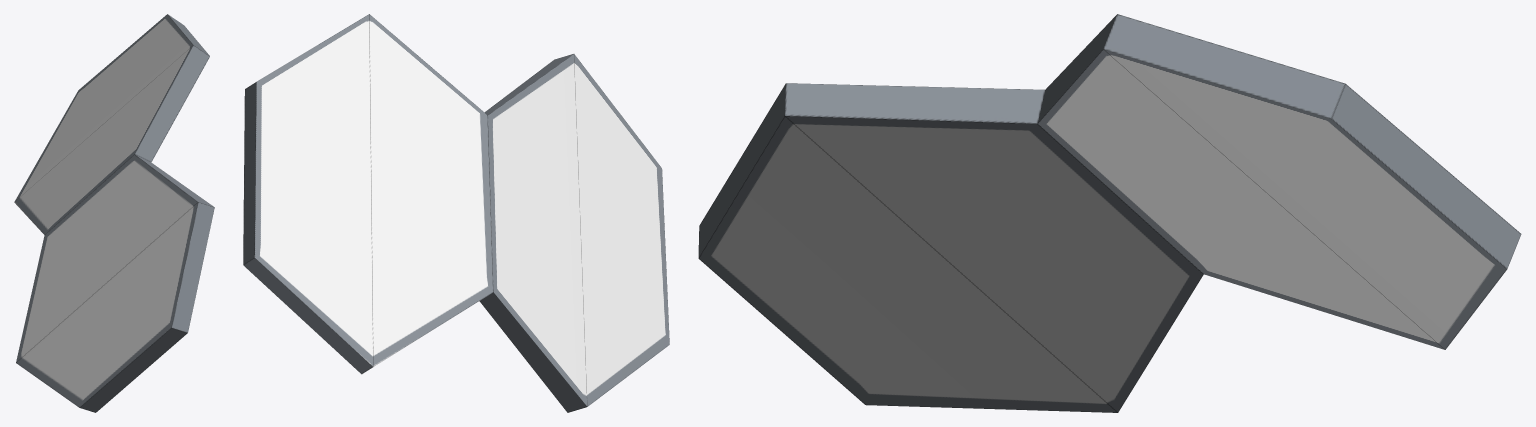
The model's file is OUTDOOR.fbx.
The picture shows the model from 3 angles, left to right: view 1: azimuth 30°, elevation 25°; view 2: azimuth 150°, elevation 25°; view 3: azimuth 270°, elevation 25°; orthographic projection. The views are drawn at different scales.
Visible parts, largest first — view 1: DOME6; view 2: DOME6; view 3: DOME6.
Part boxes in pixels (x1=…): DOME6: x1=14, y1=14, x2=214, y2=412; DOME6: x1=243, y1=14, x2=669, y2=412; DOME6: x1=698, y1=14, x2=1521, y2=412.
Size of the model in its own units: 0.5955 by 0.7196 by 0.9732.
